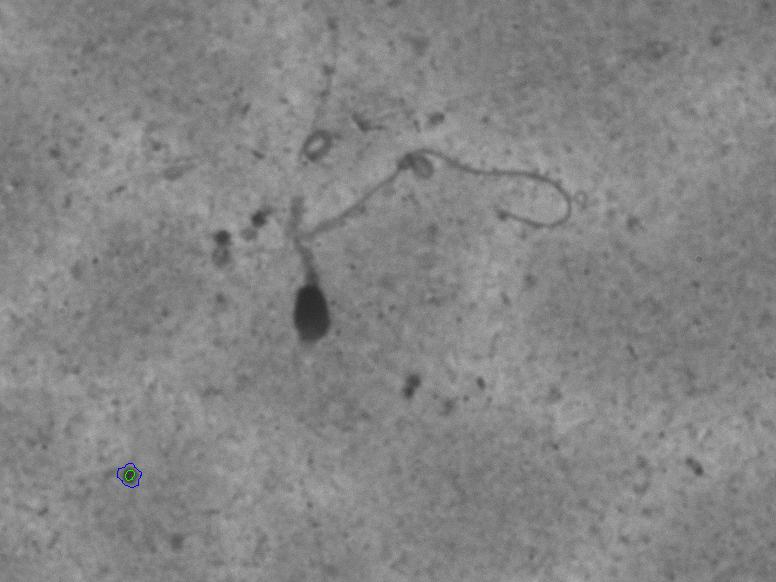Abnormal: (226, 123, 592, 370)
